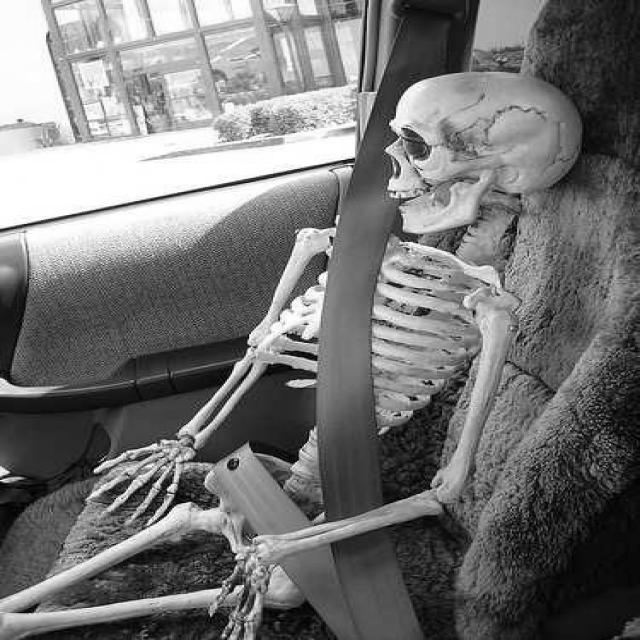Seatbelt: (302, 183, 406, 509)
